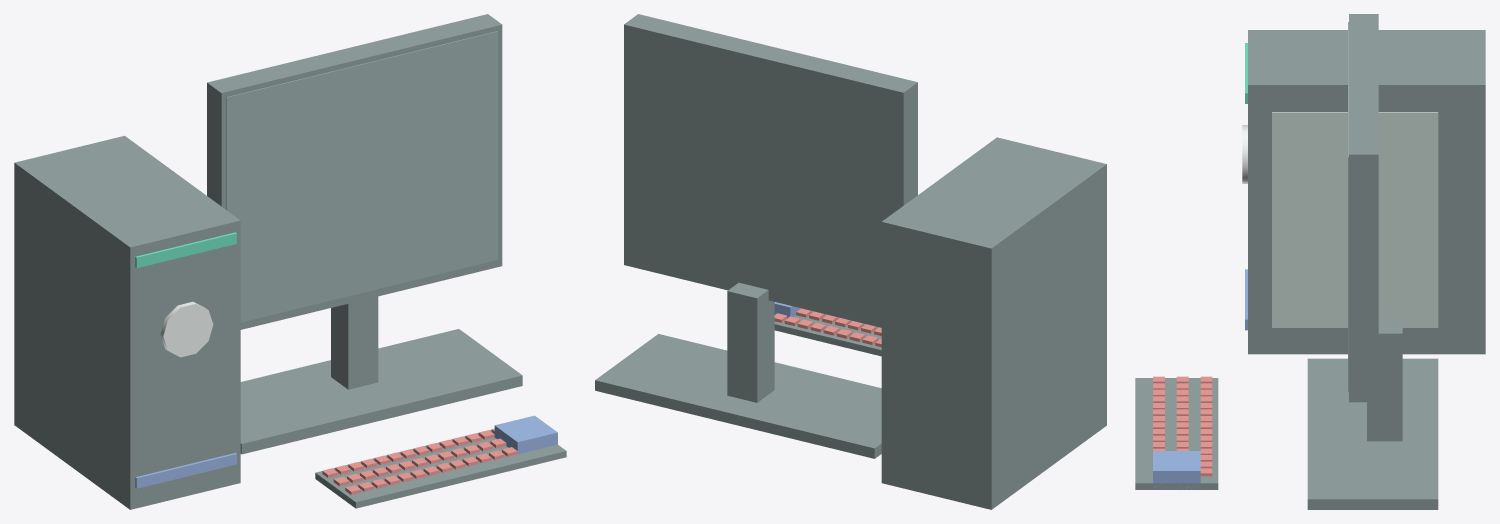
File: pcGaming.glb
The picture shows the model from 3 angles, left to right: view 1: azimuth 30°, elevation 25°; view 2: azimuth 150°, elevation 25°; view 3: azimuth 270°, elevation 25°; orthographic projection. The views are drawn at different scales.
Visible parts, largest first — view 1: pcGaming, anim:screen; view 2: pcGaming; view 3: pcGaming.
Part boxes in pixels (bbox=[...]): pcGaming: bbox=[14, 14, 566, 509]; anim:screen: bbox=[226, 31, 497, 322]; pcGaming: bbox=[595, 14, 1106, 509]; pcGaming: bbox=[1135, 14, 1485, 509].
Size of the model in its own units: 0.42 by 0.33 by 0.295.
